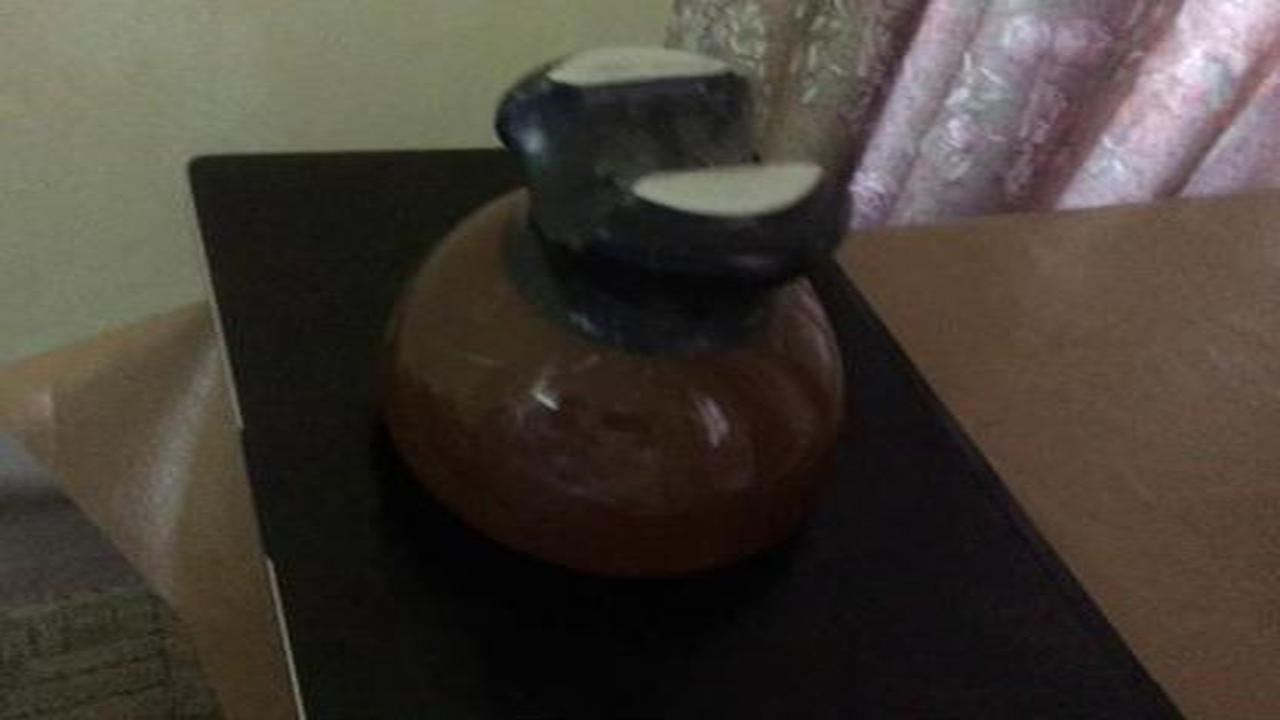insulator_pin: (348, 29, 881, 598)
